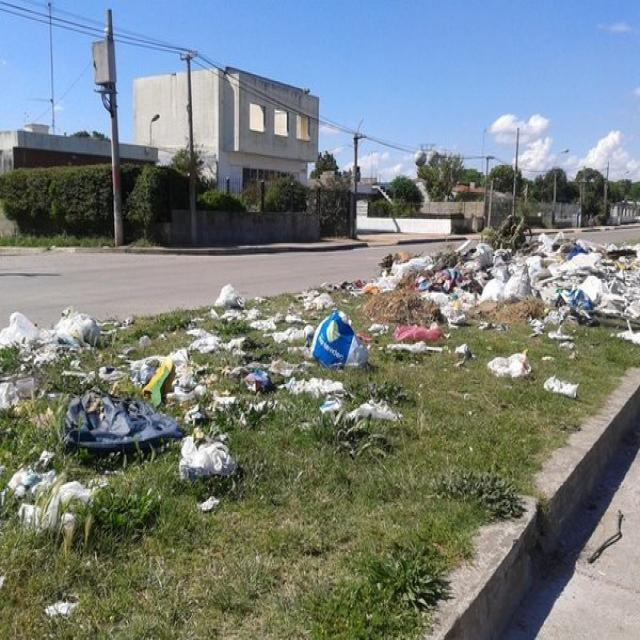garbage: (390, 227, 639, 317), (57, 378, 179, 454), (0, 308, 106, 359), (171, 424, 238, 502), (305, 302, 366, 376)
